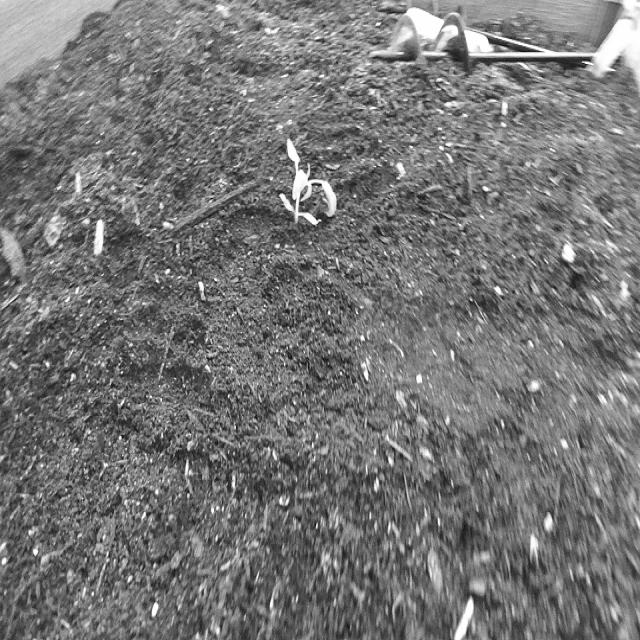Healthy: (274, 133, 339, 234)
